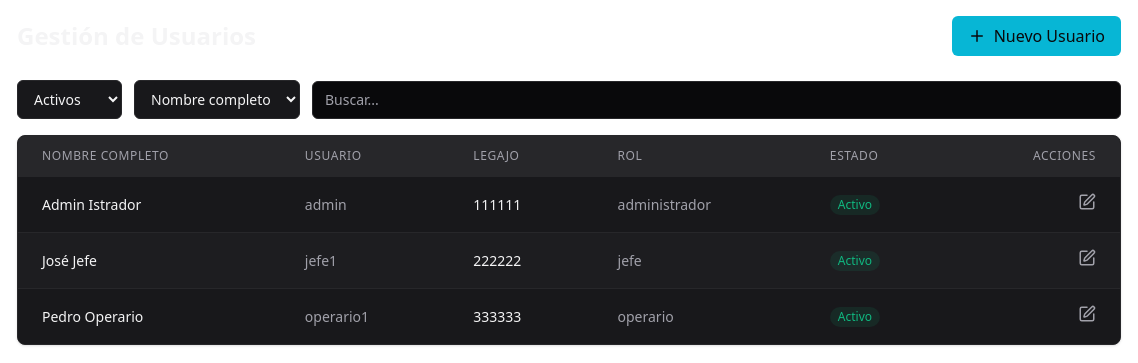
UsuariosPage › switching status to "inactivo" shows only inactivos; activos are NOT present
Expected: the text "Admin Istrador" is shown, x1=18 y1=176 x2=281 y2=232
Select "Inactivos" in the 1st dropdown: (70, 100) x1=17 y1=80 x2=122 y2=119
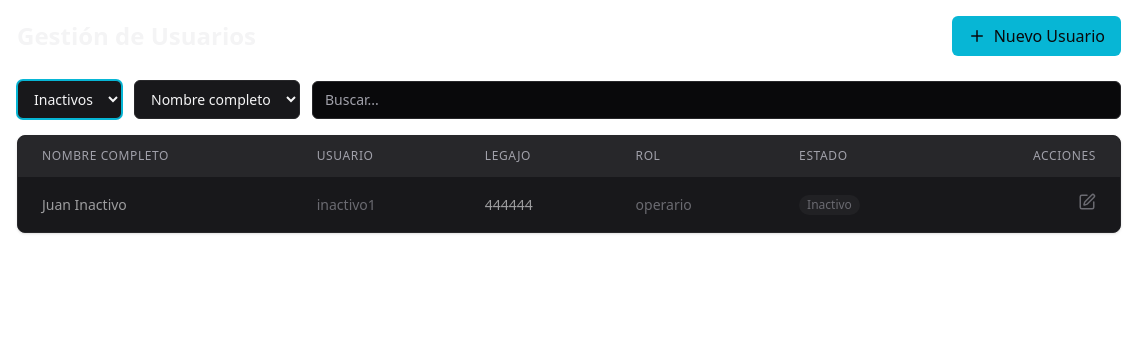
Now the text "Juan Inactivo" is shown, box x1=18 y1=176 x2=293 y2=232
Now the text "Admin Istrador" is gone
Now the text "José Jefe" is gone
